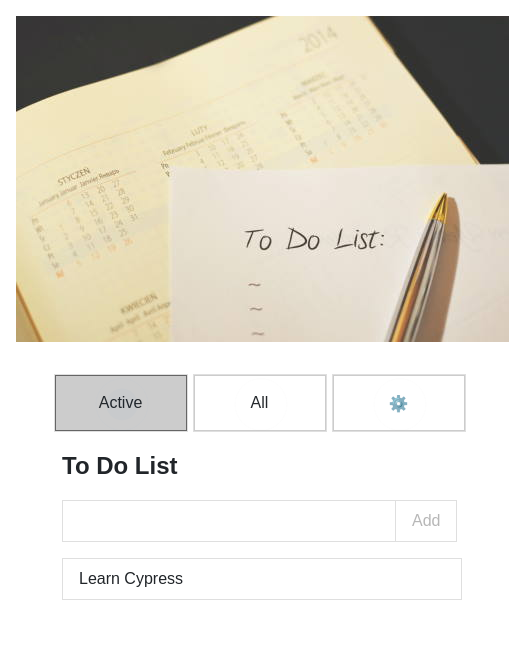
Test: To Do List › Can add {abc}
This screenshot has width=526, height=658.
Press Abc in the 1st field with test id "new-todo", box [62, 500, 396, 542]
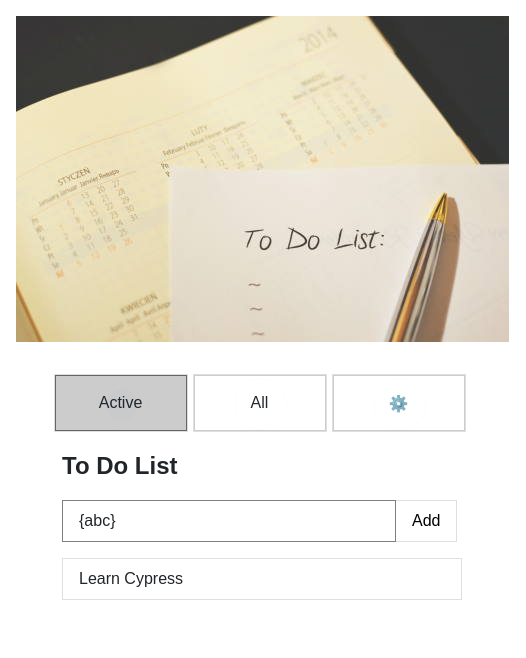
Click the button with test id "btn-add-todo" at (427, 521), box [395, 500, 458, 542]
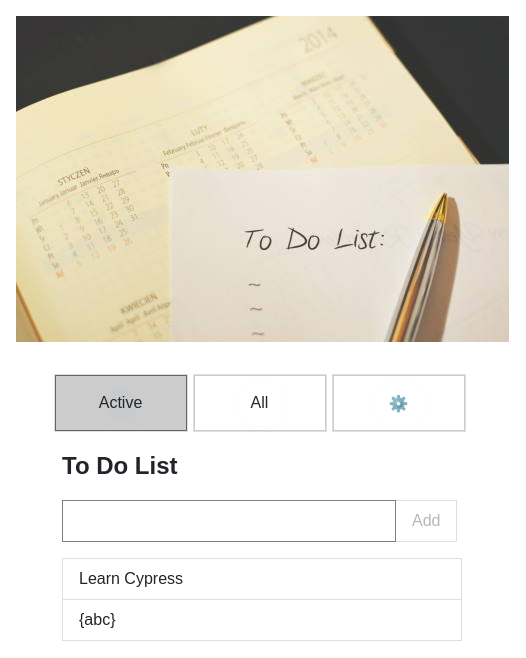
Expected: the list item "{abc}" is shown, [62, 600, 462, 641]
